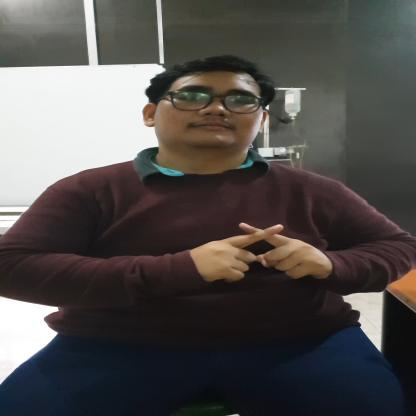X: (196, 221, 327, 284)
